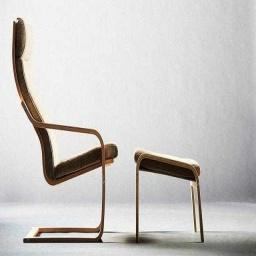Chair: (12, 19, 117, 238), (133, 150, 205, 243)
